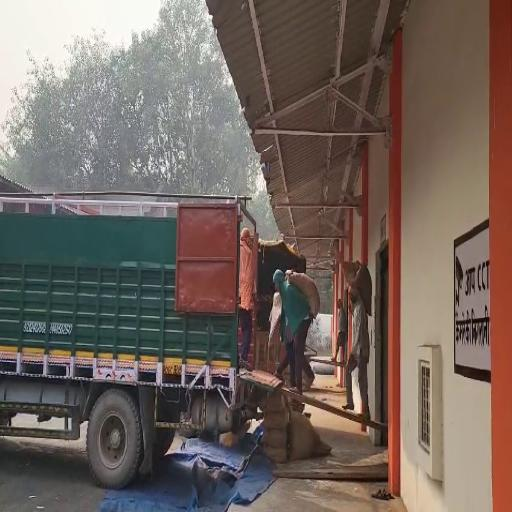bag: (337, 248, 376, 317), (284, 262, 322, 322)
